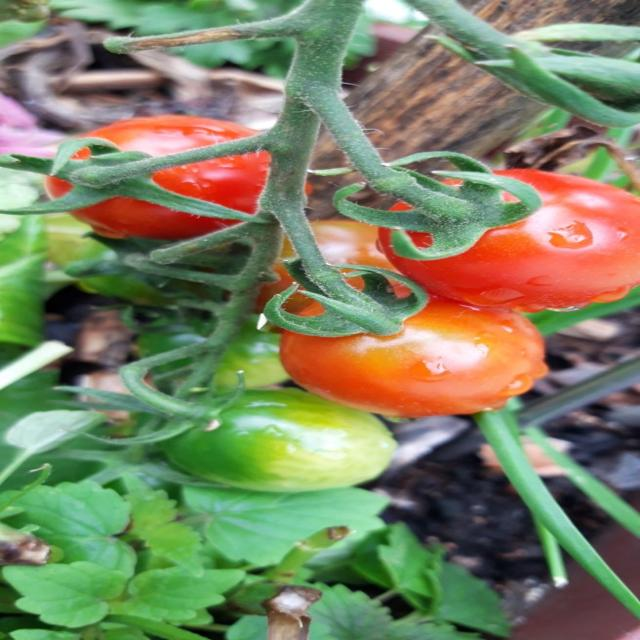level 1: (128, 305, 322, 388)
level 2: (156, 363, 418, 513)
level 4: (237, 215, 470, 323)
level 5: (373, 146, 640, 328), (232, 296, 578, 424)
level 6: (32, 99, 312, 250)
